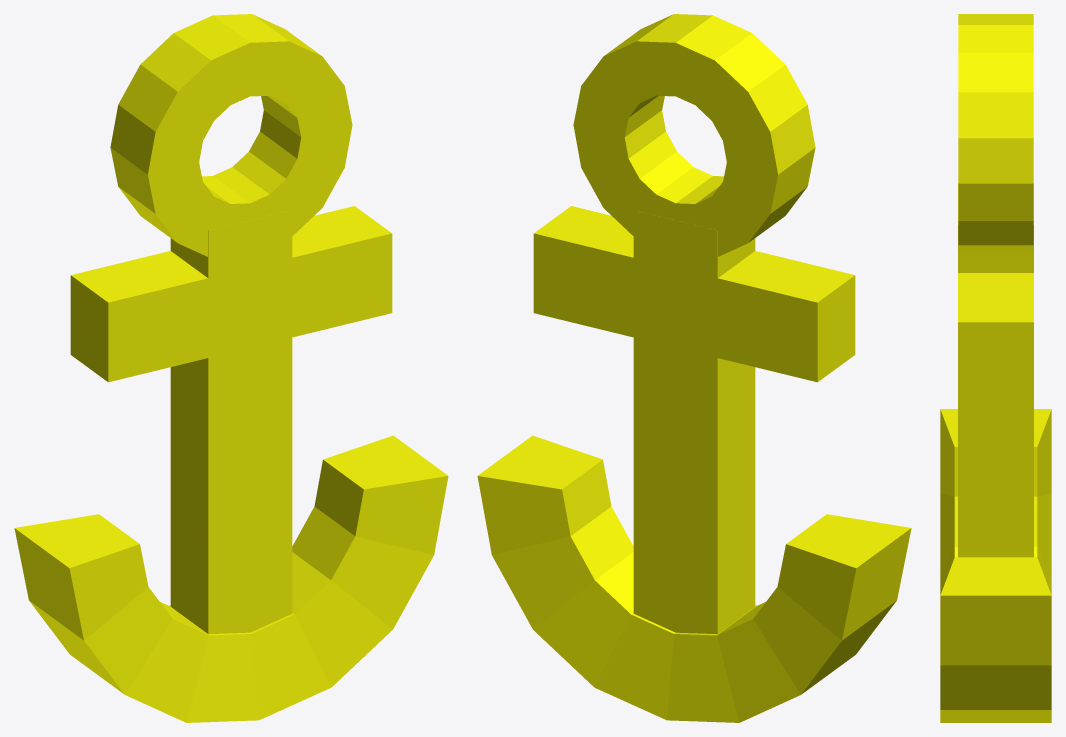
File: Anchor.fbx
3 views of the same model, side by side, from view 1: azimuth 30°, elevation 25°; view 2: azimuth 150°, elevation 25°; view 3: azimuth 270°, elevation 25° (orthographic).
Parts seen in each view (by area): view 1: Anchor; view 2: Anchor; view 3: Anchor.
Boxes of the visible parts, x1=… form: Anchor: x1=14, y1=14, x2=448, y2=722; Anchor: x1=477, y1=14, x2=911, y2=722; Anchor: x1=940, y1=14, x2=1051, y2=722.
Size of the model in its own units: 0.072 by 0.1218 by 0.0181.
